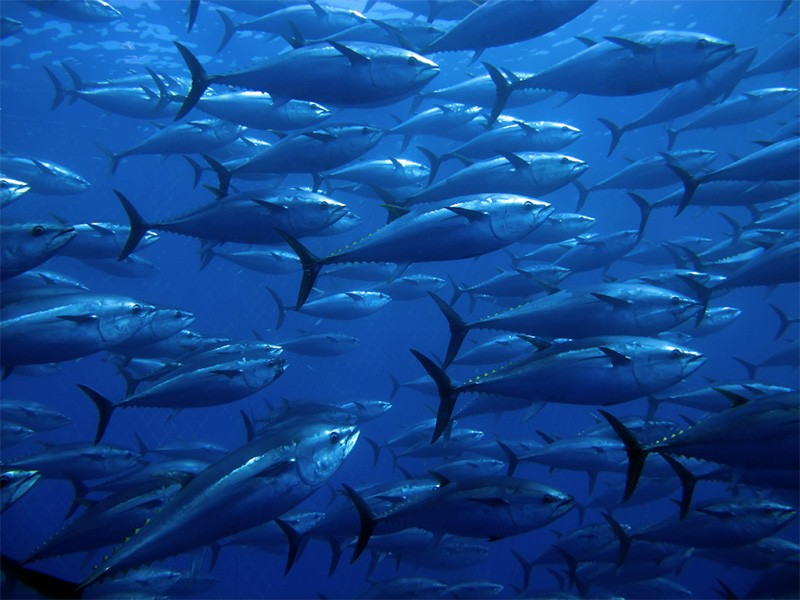Bluefina Tuna: (73, 420, 367, 585), (405, 329, 708, 440), (288, 190, 552, 301), (423, 274, 740, 349), (488, 30, 743, 122), (85, 348, 291, 442), (115, 191, 350, 266), (422, 137, 589, 217)
